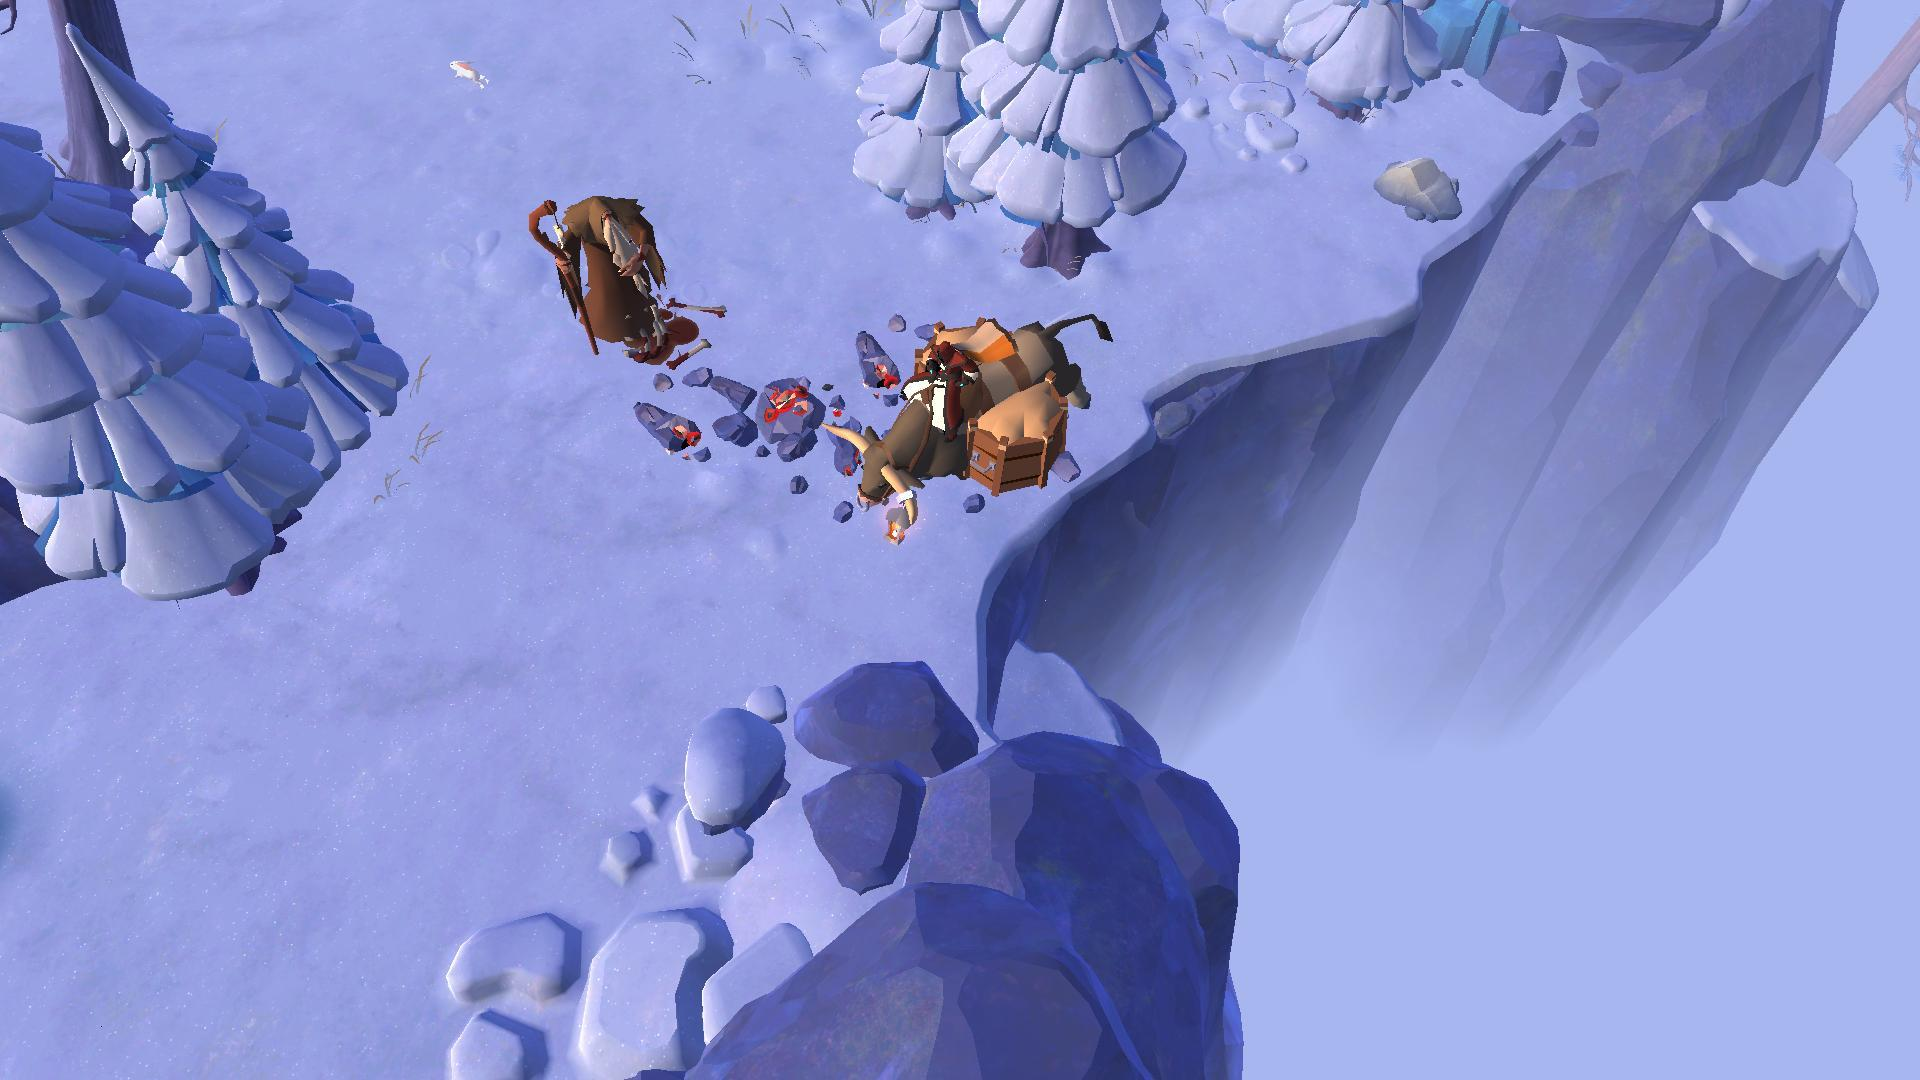enemy_factionKeeper: (526, 187, 670, 359)
rock_t4: (1404, 0, 1524, 83)
